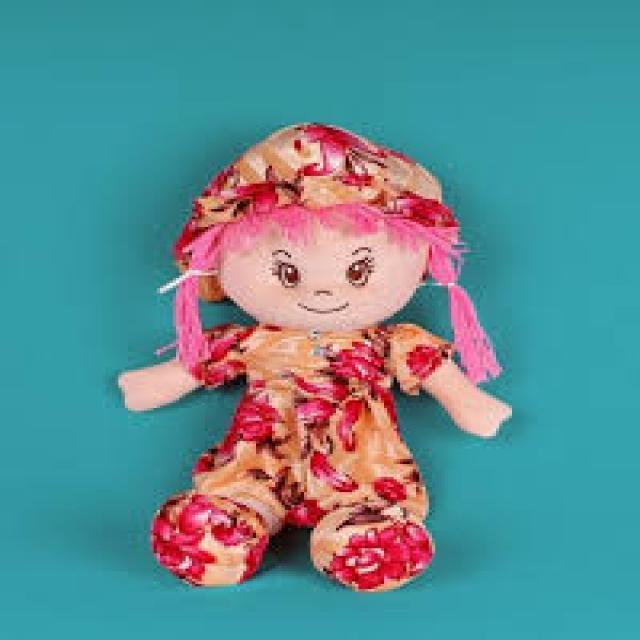soft-toy: (120, 125, 512, 592)
